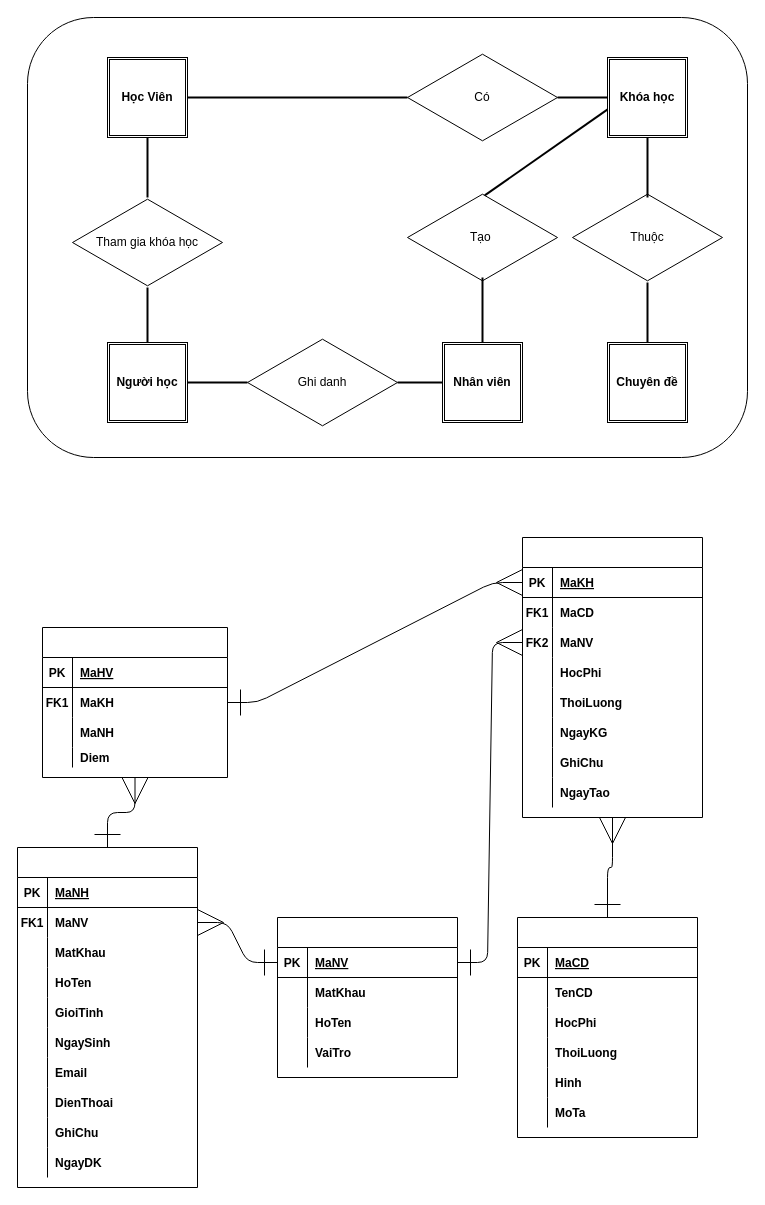
Image size: 765x1205. Some labels were removed from this diagram. The box of each missing label's shape, as (x1, y1, x2, y2) in pixels:
ChuyenDe: (516, 916, 698, 1138)
HocVien: (42, 626, 228, 778)
KhoaHoc: (522, 536, 702, 818)
NguoiHoc: (16, 846, 198, 1188)
NhanVien: (276, 916, 458, 1078)
